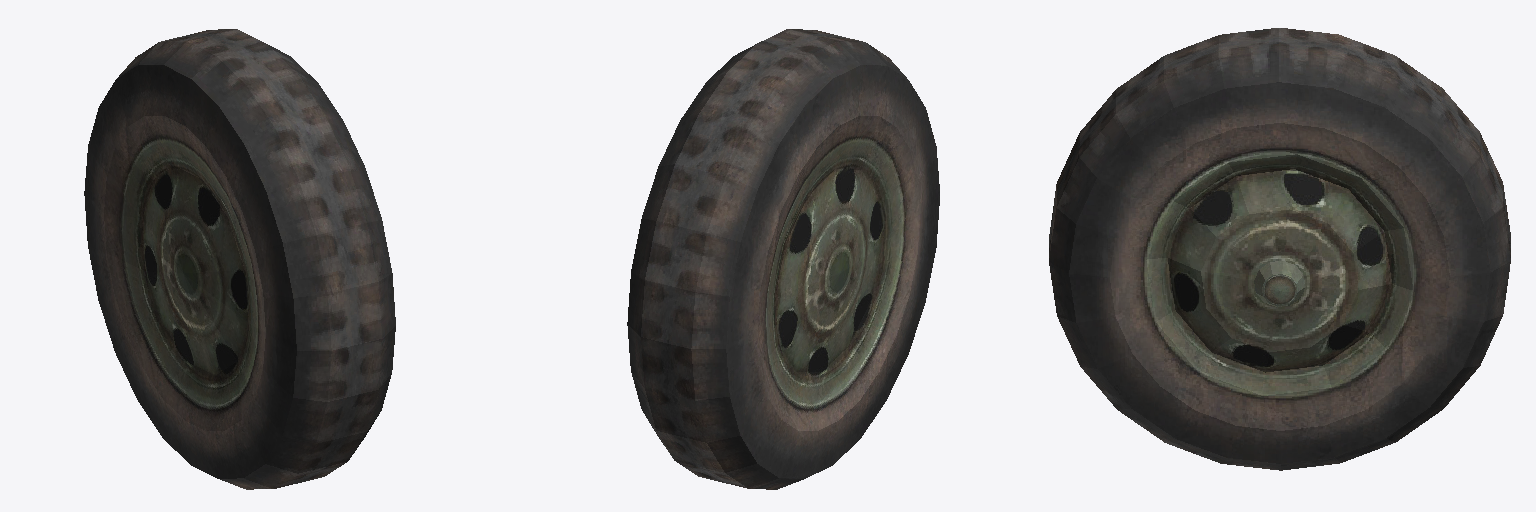
3 renders of one model, left to right at view 1: azimuth 30°, elevation 25°; view 2: azimuth 150°, elevation 25°; view 3: azimuth 270°, elevation 25°, orthographic.
Parts seen in each view (by area): view 1: armytruck.002; view 2: armytruck.002; view 3: armytruck.002.
Boxes of the visible parts, x1,y1,x2,y2 form: armytruck.002: [84, 29, 395, 489]; armytruck.002: [627, 29, 939, 489]; armytruck.002: [1049, 28, 1510, 470].
Size of the model in its own units: 0.3317 by 0.9165 by 0.9172.
Materials: 1 (1 with a texture image).